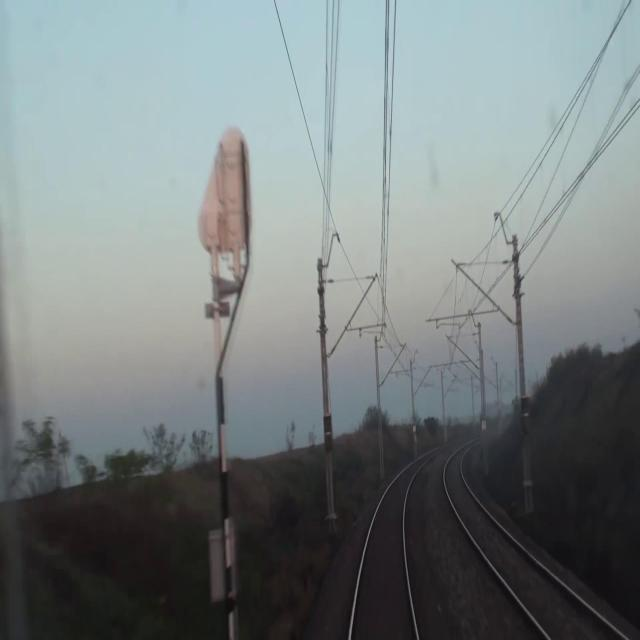rail-track: (447, 453, 619, 639), (352, 466, 416, 639)
